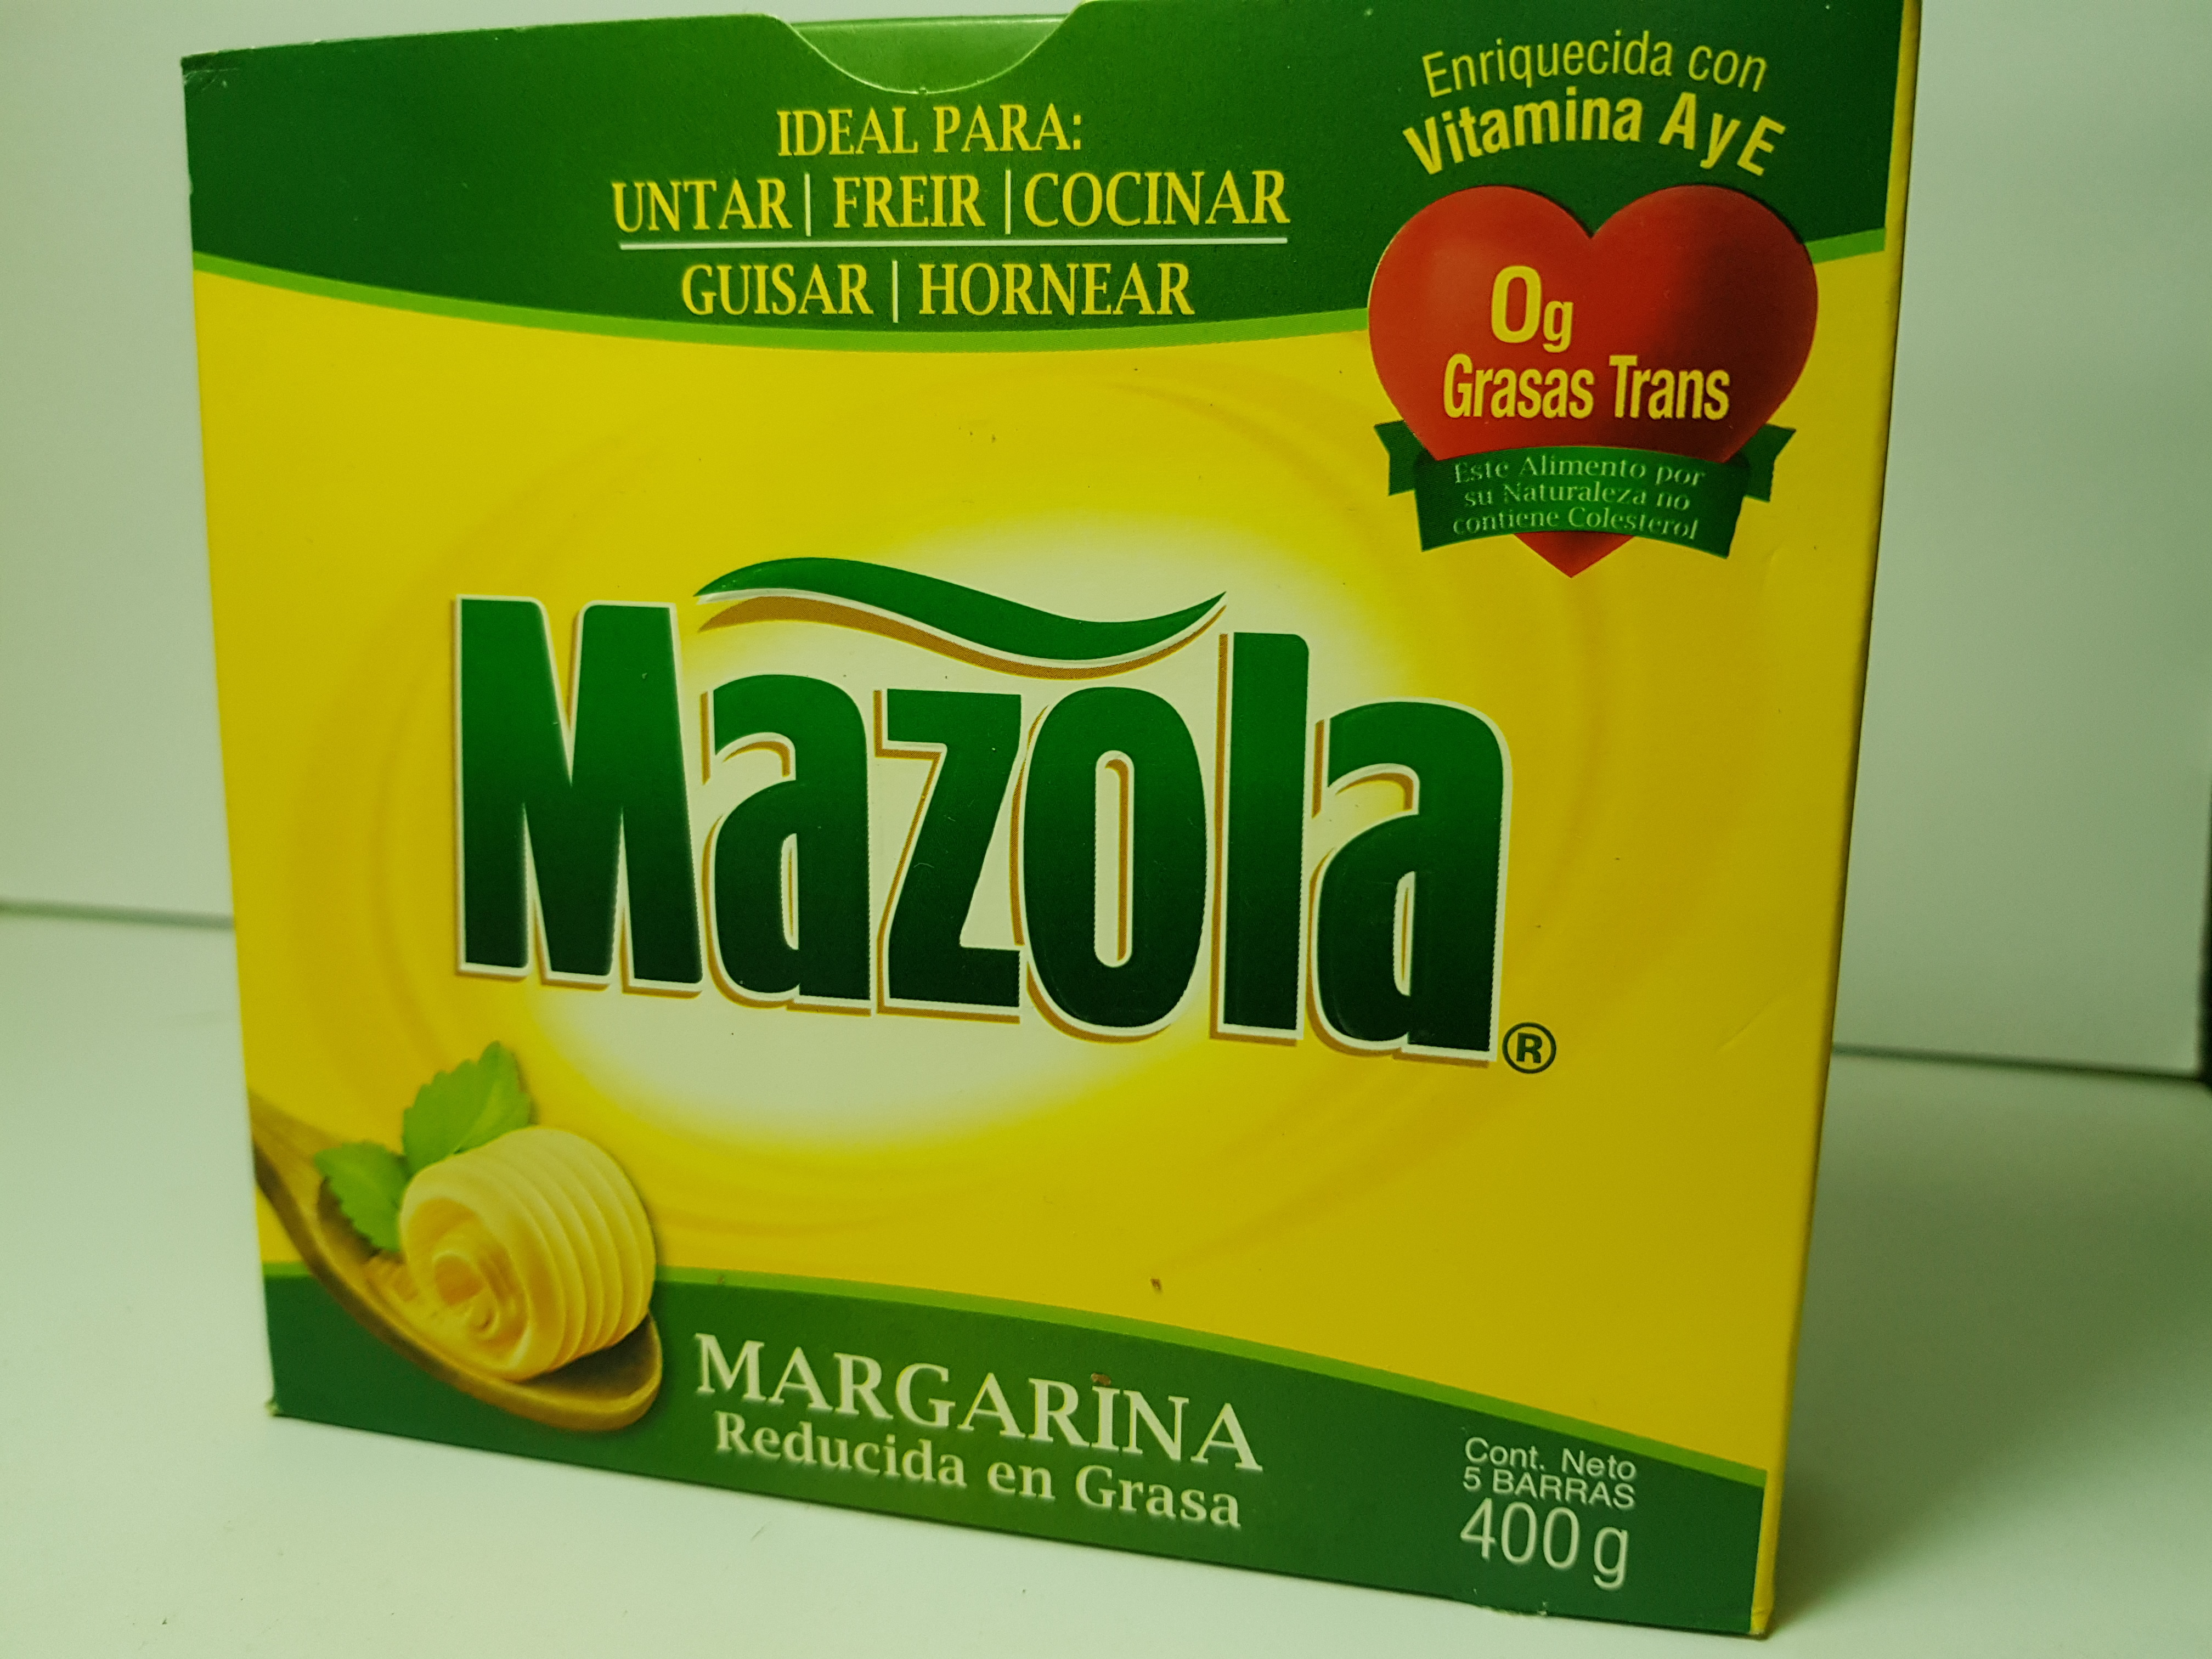mazola: (172, 0, 1935, 1659)
